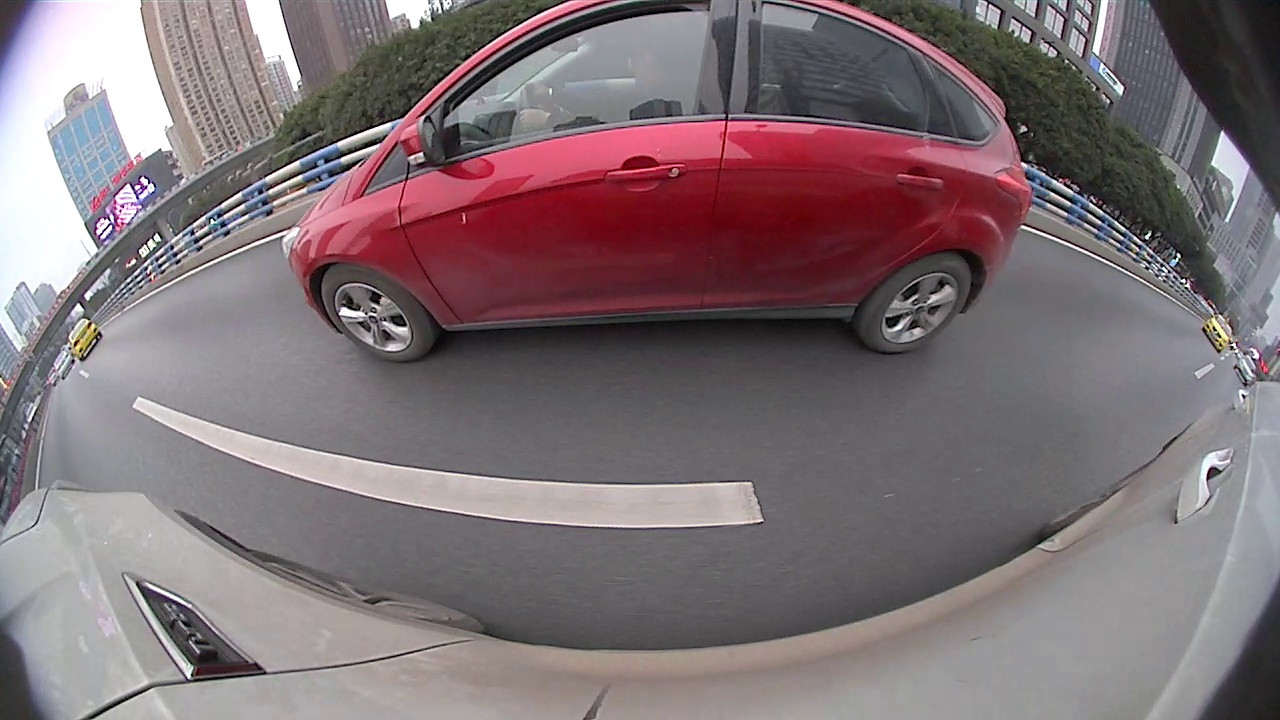car: (941, 173, 1245, 381), (206, 129, 516, 313), (739, 134, 864, 215), (619, 137, 706, 211), (505, 153, 578, 201), (858, 162, 923, 213), (724, 145, 766, 185), (565, 160, 598, 189), (699, 158, 725, 183)
front: (951, 218, 993, 269), (496, 188, 515, 230), (741, 170, 754, 199)
rear: (1126, 303, 1189, 378), (367, 217, 423, 294), (776, 175, 795, 207), (875, 189, 888, 207)
